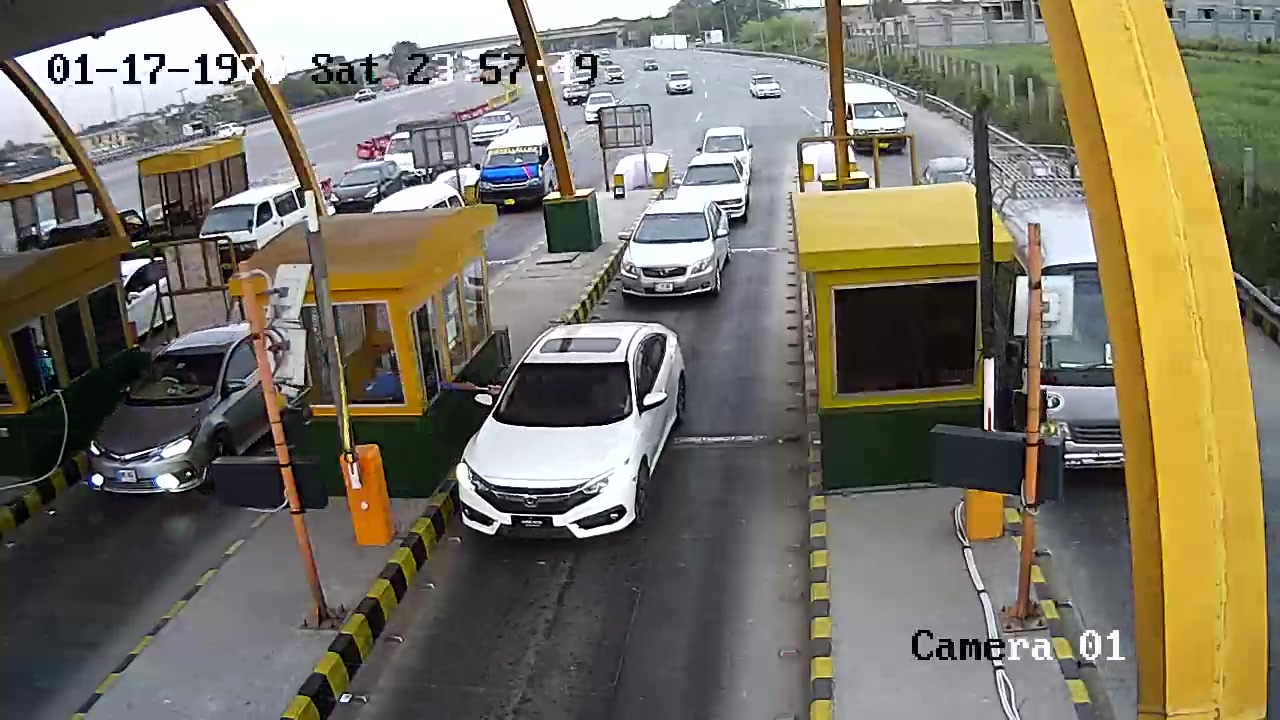F1: (441, 323, 688, 551)
